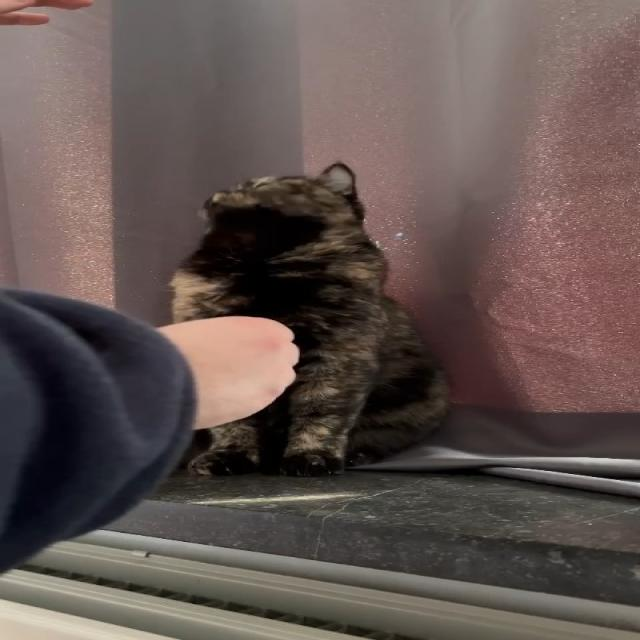authorized: (167, 161, 452, 477)
